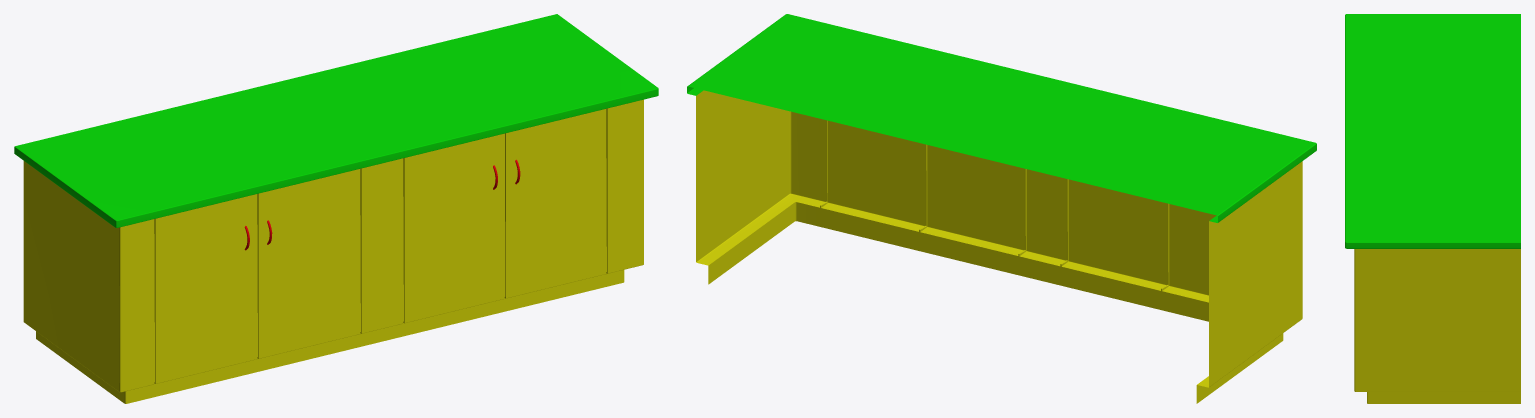
The model's file is Counter.fbx.
3 renders of one model, left to right at view 1: azimuth 30°, elevation 25°; view 2: azimuth 150°, elevation 25°; view 3: azimuth 270°, elevation 25°, orthographic. The views are drawn at different scales.
Parts seen in each view (by area): view 1: counter; view 2: counter; view 3: counter.
Part boxes in pixels (box(x1,y1,x2,y2)): counter: box(14, 14, 658, 403); counter: box(687, 14, 1316, 403); counter: box(1345, 14, 1520, 403).
Size of the model in its own units: 2.56 by 0.8909 by 0.8315.
